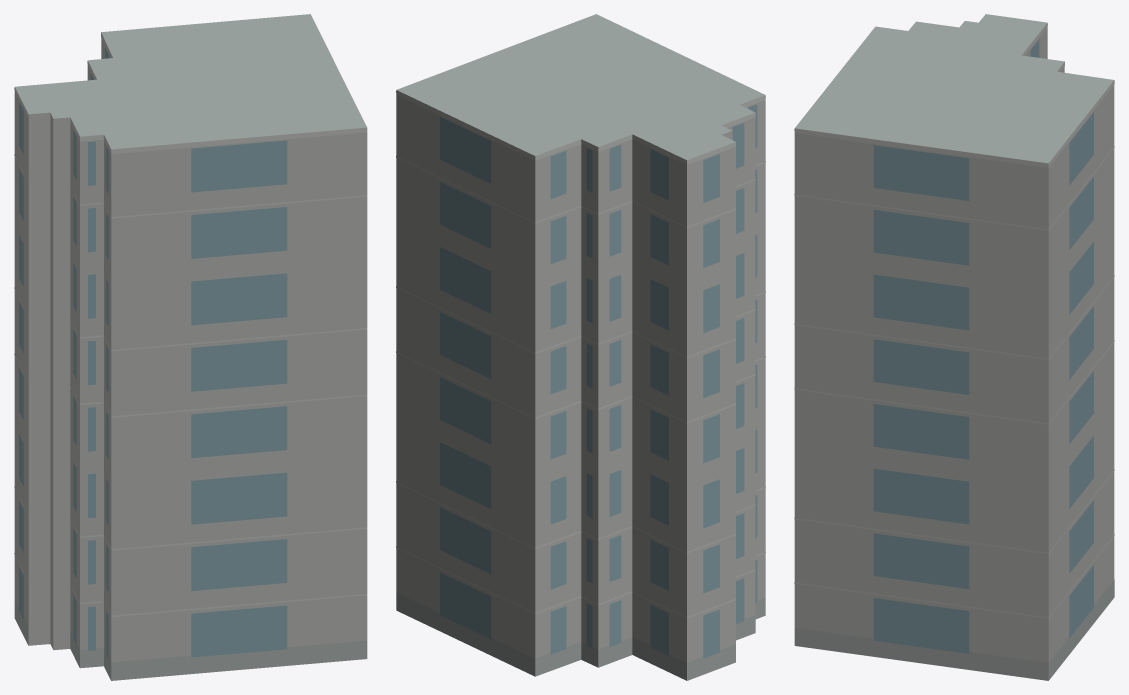
Rendered from survey-upis-32999127.glb.
3 renders of one model, left to right at view 1: azimuth 30°, elevation 25°; view 2: azimuth 150°, elevation 25°; view 3: azimuth 270°, elevation 25°, orthographic. The views are drawn at different scales.
Parts seen in each view (by area): view 1: survey-upis-32999127.tmp; view 2: survey-upis-32999127.tmp; view 3: survey-upis-32999127.tmp.
Part boxes in pixels (x1=…): survey-upis-32999127.tmp: x1=14, y1=14, x2=367, y2=680; survey-upis-32999127.tmp: x1=396, y1=14, x2=765, y2=680; survey-upis-32999127.tmp: x1=794, y1=14, x2=1114, y2=680.
Size of the model in its own units: 16.43 by 26.5 by 14.87.
